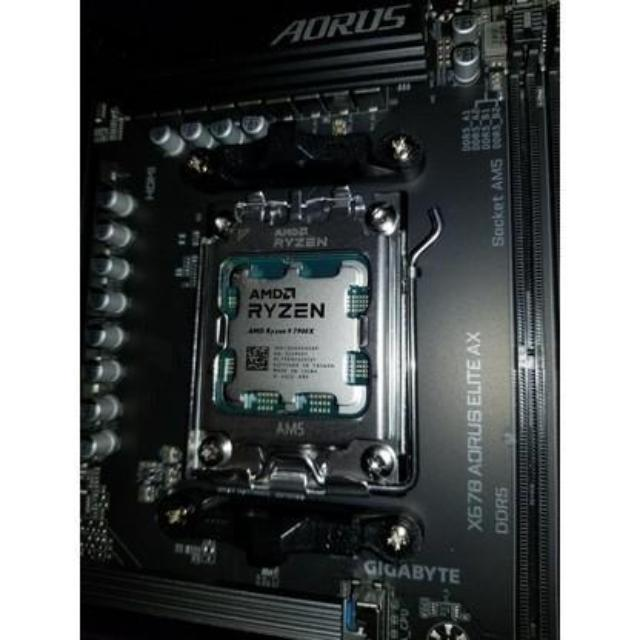CPU: (220, 253, 374, 424)
